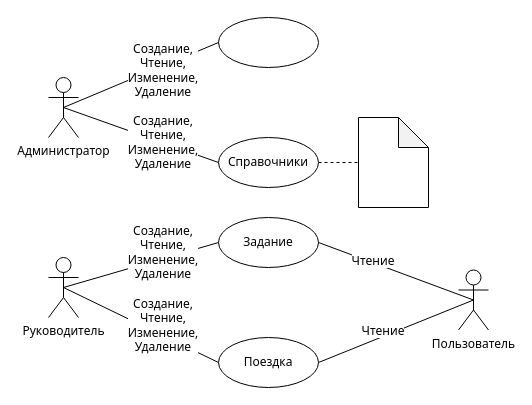
Image size: 532x405. Some labels were removed from this diagram. Each missing label, with the centre of its shape:
"Локации, Транспорт, Персонал" goes at (x=393, y=162).
"Пользователи" goes at (x=268, y=42).
